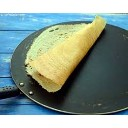dosa: (28, 21, 105, 91)
